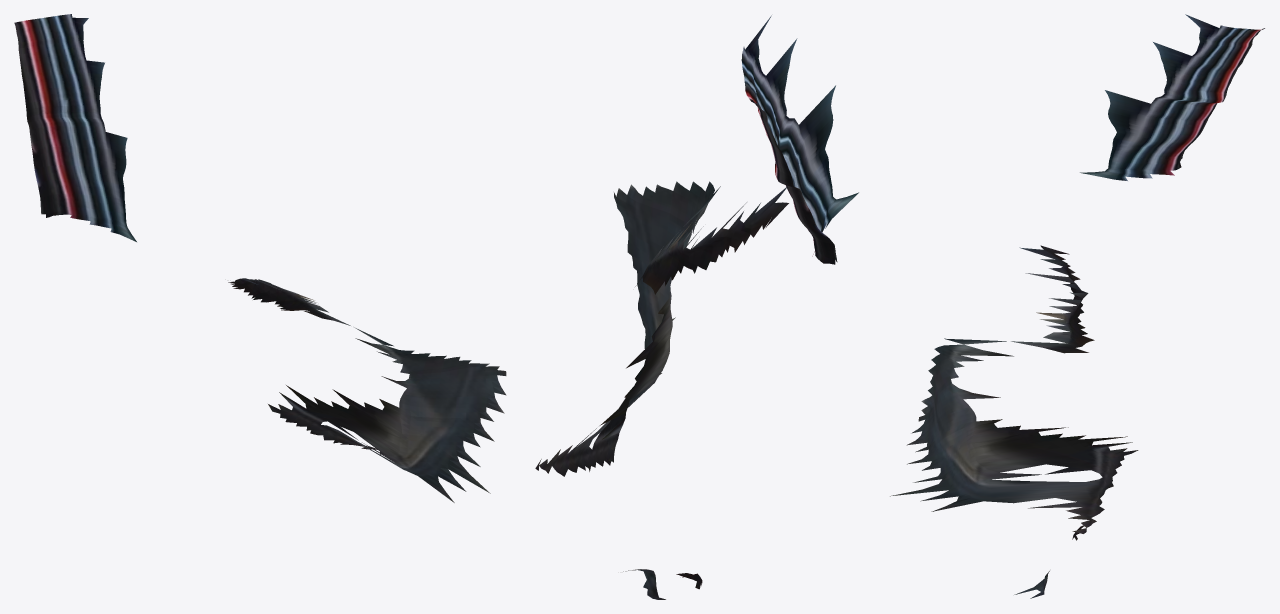
File: observed-surface.glb
3 views of the same model, side by side, from view 1: azimuth 30°, elevation 25°; view 2: azimuth 150°, elevation 25°; view 3: azimuth 270°, elevation 25° (orthographic). The views are drawn at different scales.
Visible parts, largest first — view 1: geometry_0; view 2: geometry_0; view 3: geometry_0.
Boxes of the visible parts, x1,y1,x2,y2 form: geometry_0: (14,14,506,502); geometry_0: (535,15,858,599); geometry_0: (890,14,1264,598).
Size of the model in its own units: 0.3833 by 0.642 by 0.4309.
Materials: 1 (1 with a texture image).
